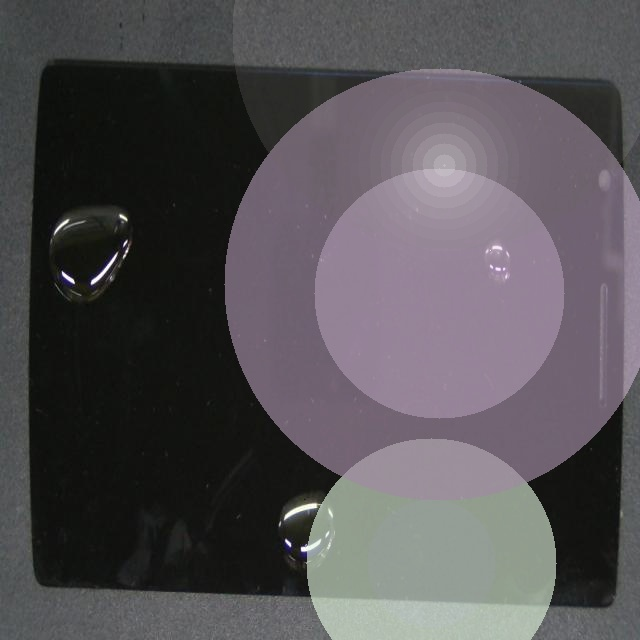oil: (220, 107, 640, 395), (170, 231, 450, 640), (80, 110, 187, 309)
